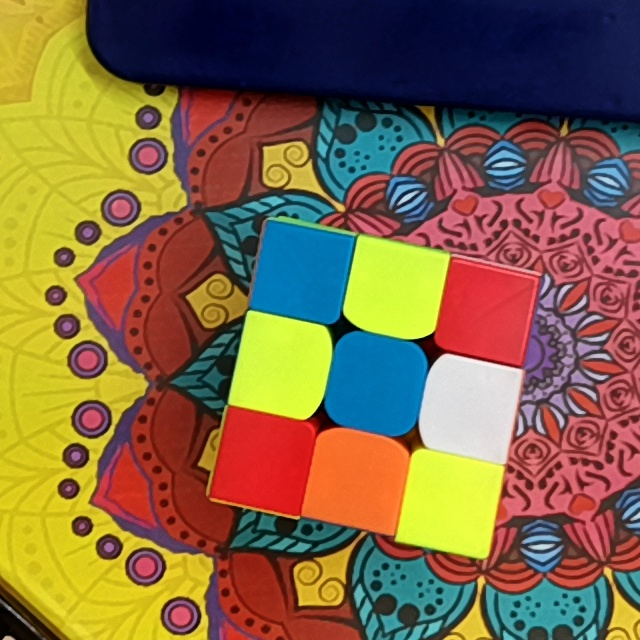tile: (320, 446, 397, 516), (415, 466, 488, 539), (435, 371, 506, 444), (264, 239, 336, 309), (341, 348, 413, 418), (245, 330, 317, 400), (450, 276, 523, 345), (229, 425, 299, 496), (358, 254, 431, 322)
